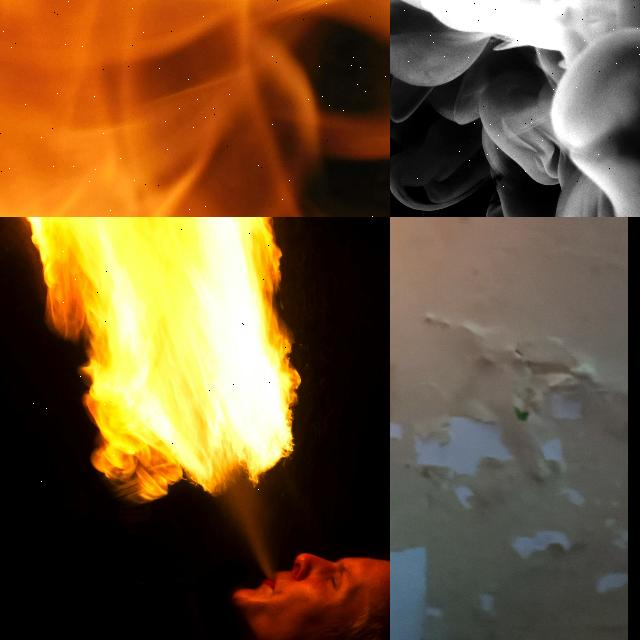fire: (0, 0, 390, 217), (27, 217, 297, 499)
smoke: (390, 0, 640, 217)
